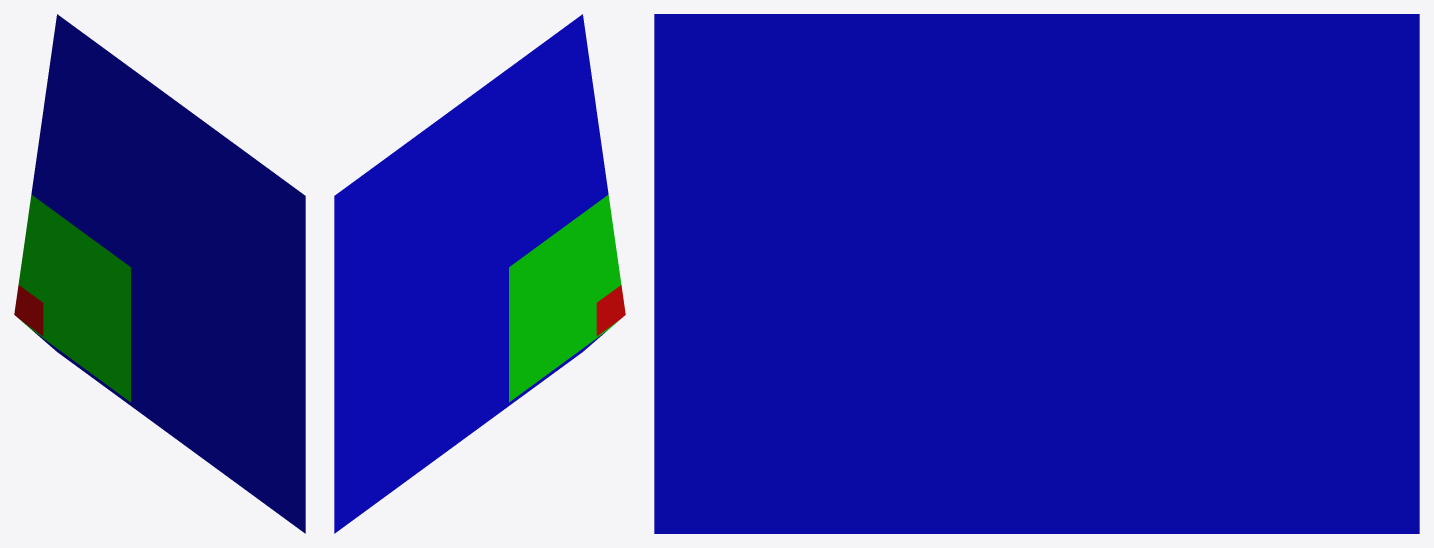
File: CSMDebug.obj
3 views of the same model, side by side, from view 1: azimuth 30°, elevation 25°; view 2: azimuth 150°, elevation 25°; view 3: azimuth 270°, elevation 25° (orthographic). The views are drawn at different scales.
Visible parts, largest first — view 1: default; view 2: default; view 3: default.
Part boxes in pixels (<box>): default: <box>14,14,305,533</box>; default: <box>334,14,625,533</box>; default: <box>654,14,1419,533</box>.
Bounding box in the file's own units: 200 × 386 × 515.
